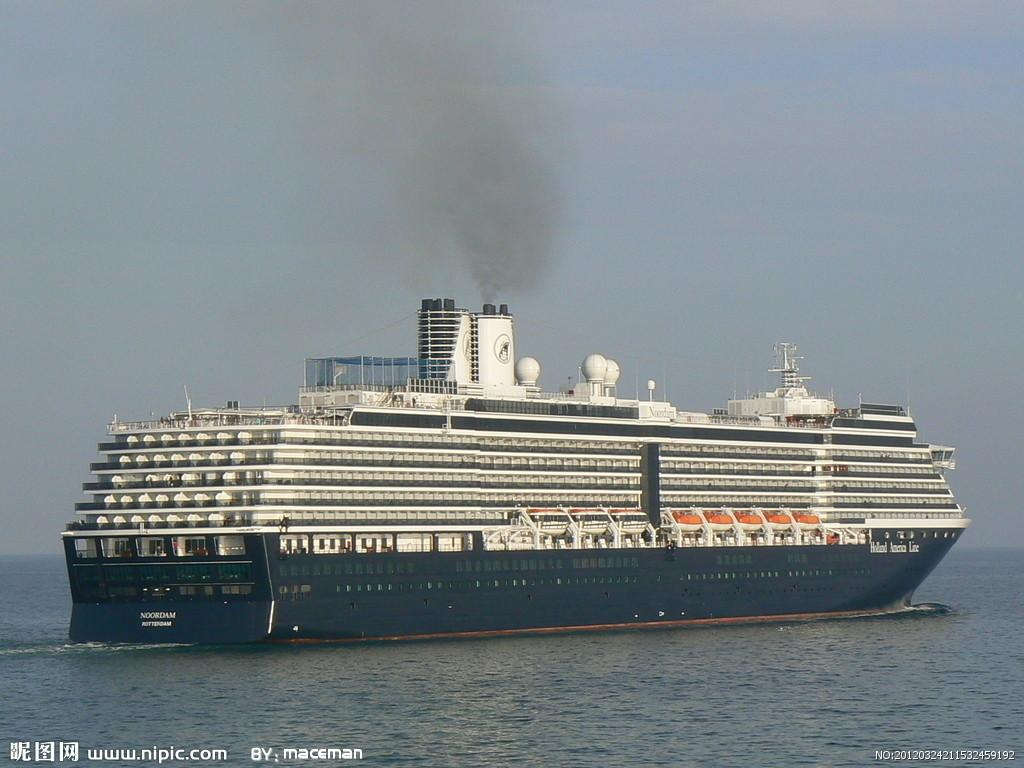youlun: (59, 286, 974, 647)
